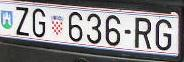-: (124, 30, 130, 34)
3: (87, 13, 101, 44)
6: (105, 15, 120, 46), (69, 12, 82, 42)
G: (156, 19, 171, 50), (33, 9, 45, 38)
R: (135, 17, 150, 48)
Z: (15, 8, 28, 36)
